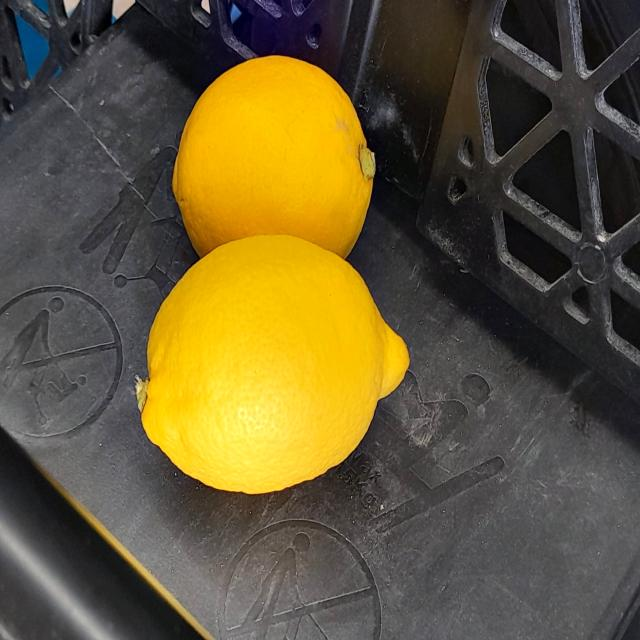lemon: (129, 229, 407, 495), (164, 51, 382, 275)
